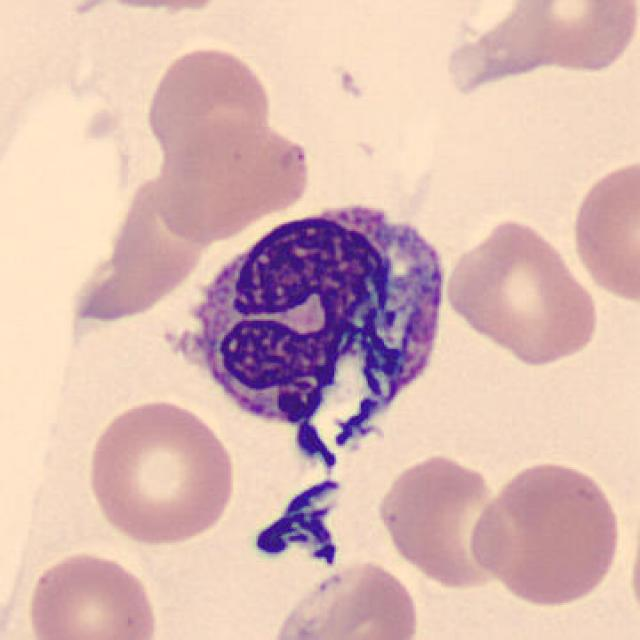Monocyte: (160, 187, 460, 467)
RBC: (441, 214, 603, 368), (464, 457, 626, 610), (82, 395, 240, 548), (434, 2, 638, 118), (149, 116, 315, 242), (372, 451, 514, 591), (142, 42, 274, 173), (21, 546, 161, 640), (265, 557, 423, 640), (567, 153, 640, 307), (515, 0, 640, 76), (73, 0, 236, 14), (626, 488, 640, 638)
